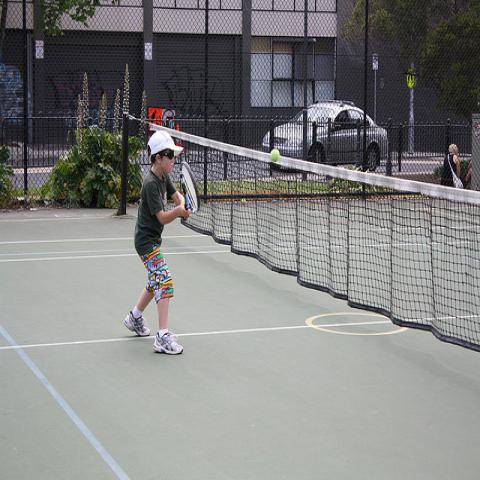car: (262, 97, 388, 172)
